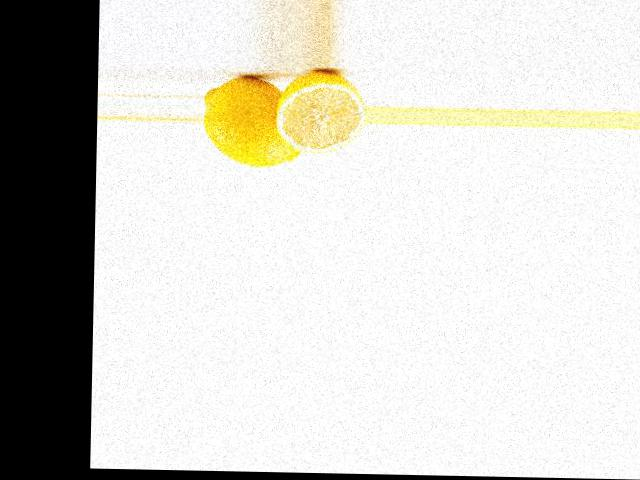lemon: (203, 73, 307, 169)
